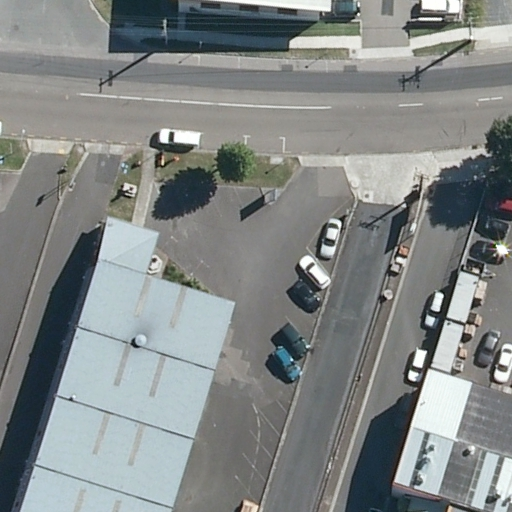DT: (410, 166, 436, 195), (461, 10, 480, 45), (155, 14, 175, 47)
